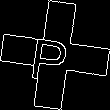P_N: (33, 27, 77, 83)
